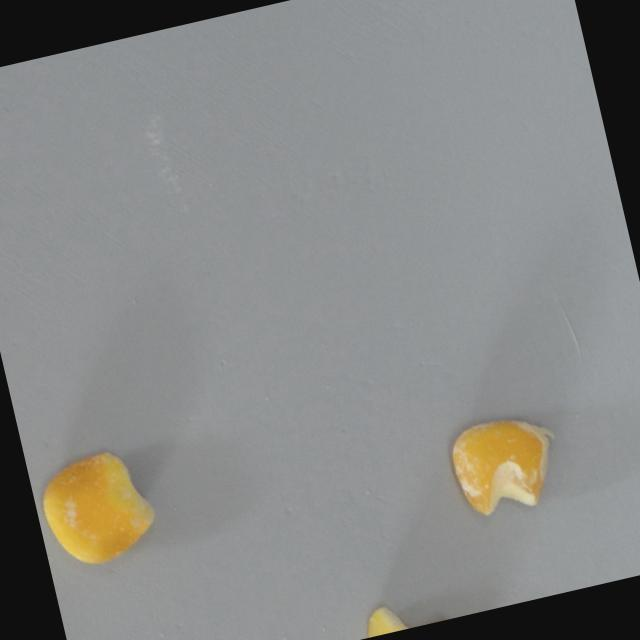pelicula: (33, 442, 165, 574), (444, 407, 569, 521), (356, 586, 474, 639)
